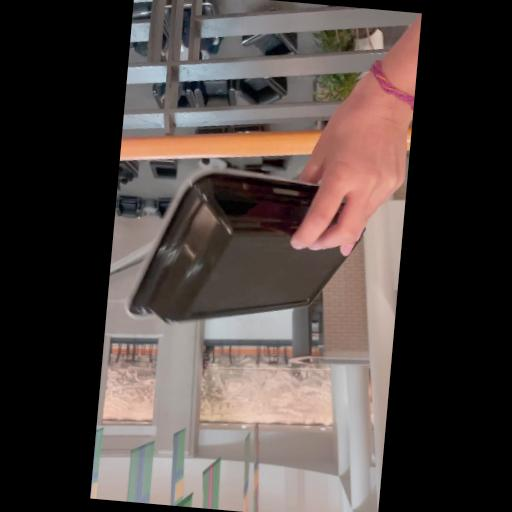rigid_plastic_container: (122, 164, 369, 340)
